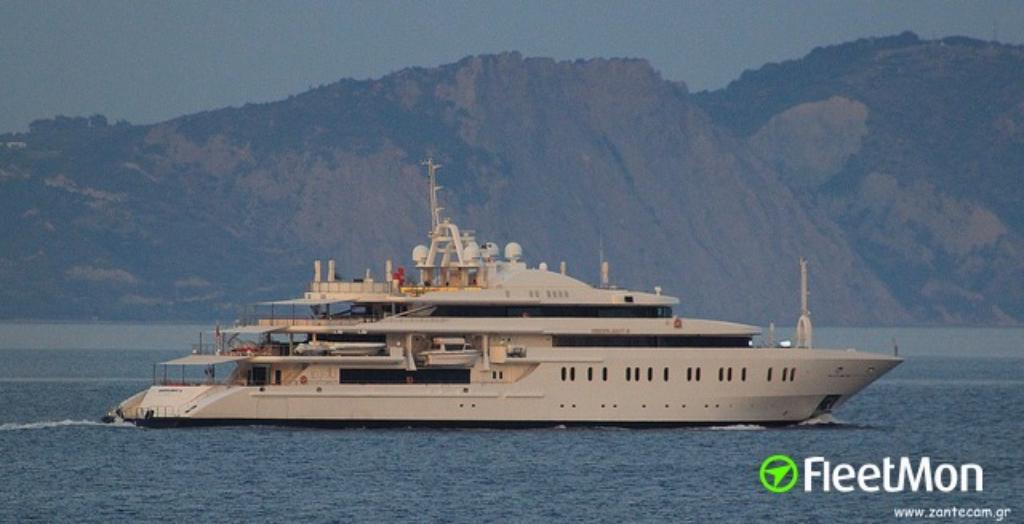PassengerShip: (100, 159, 904, 429)
